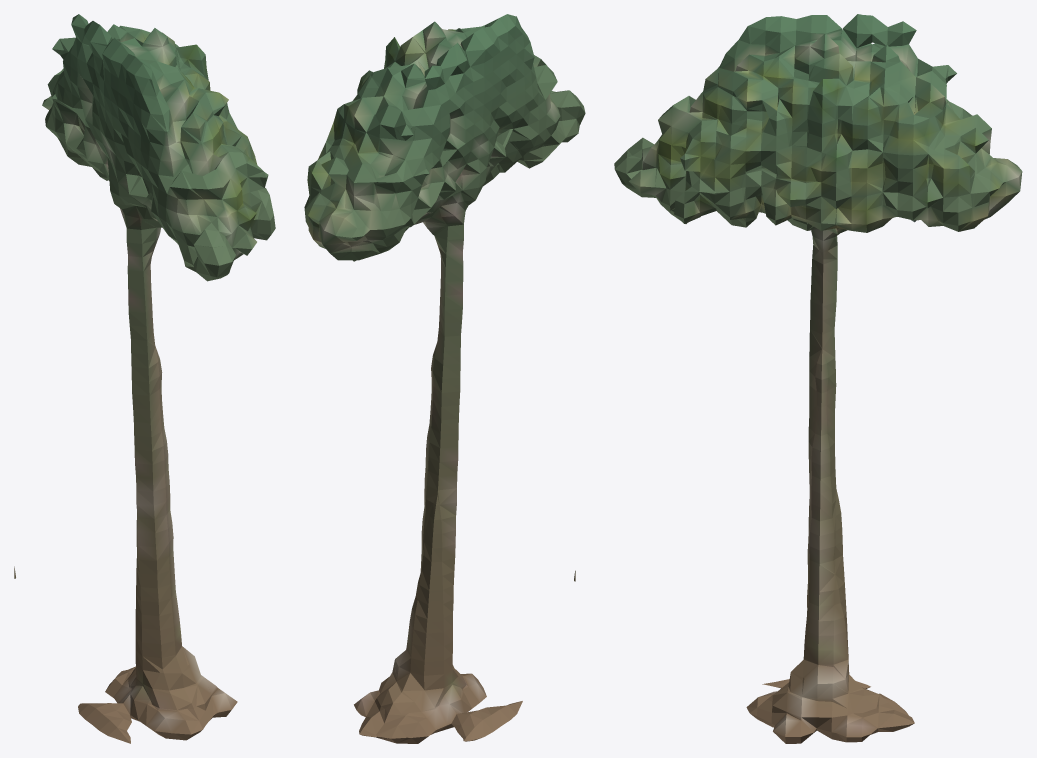
File: tree_tall.glb
The picture shows the model from 3 angles, left to right: view 1: azimuth 30°, elevation 25°; view 2: azimuth 150°, elevation 25°; view 3: azimuth 270°, elevation 25°; orthographic projection.
Visible parts, largest first — view 1: world; view 2: world; view 3: world.
Part boxes in pixels (<box>): world: <box>14,14,275,743</box>; world: <box>304,14,585,743</box>; world: <box>614,14,1022,743</box>.
Size of the model in its own units: 4.46 by 14 by 7.5.
